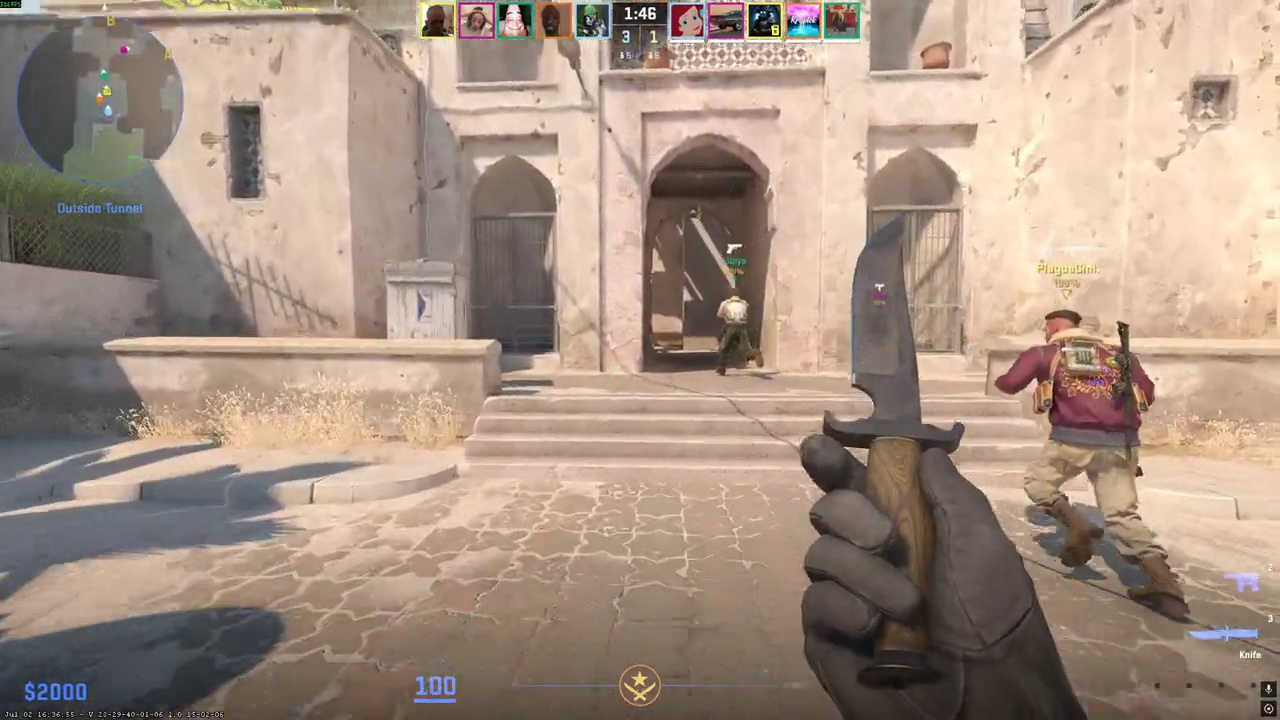Terrorist: (1011, 310, 1173, 617), (716, 288, 760, 376)
